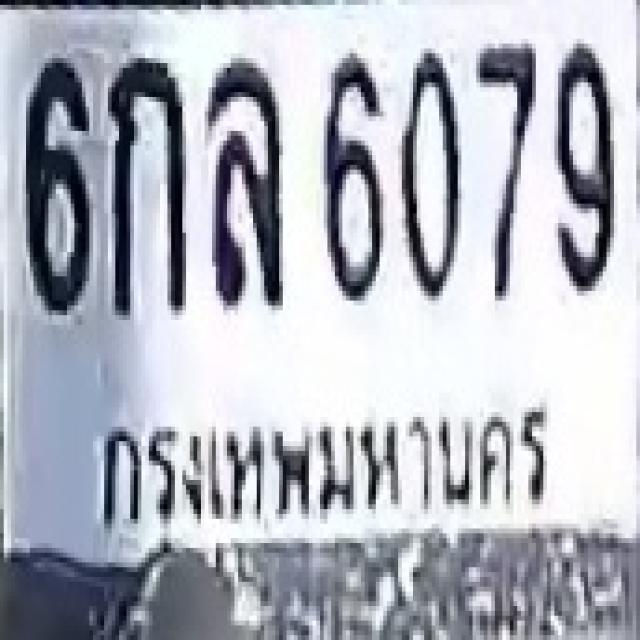-: (108, 53, 186, 315), (207, 58, 284, 306)
0: (398, 48, 462, 300)
6: (22, 55, 90, 312), (320, 51, 383, 303)
7: (472, 41, 536, 298)
9: (551, 39, 614, 291)
BKK: (80, 392, 565, 541)
